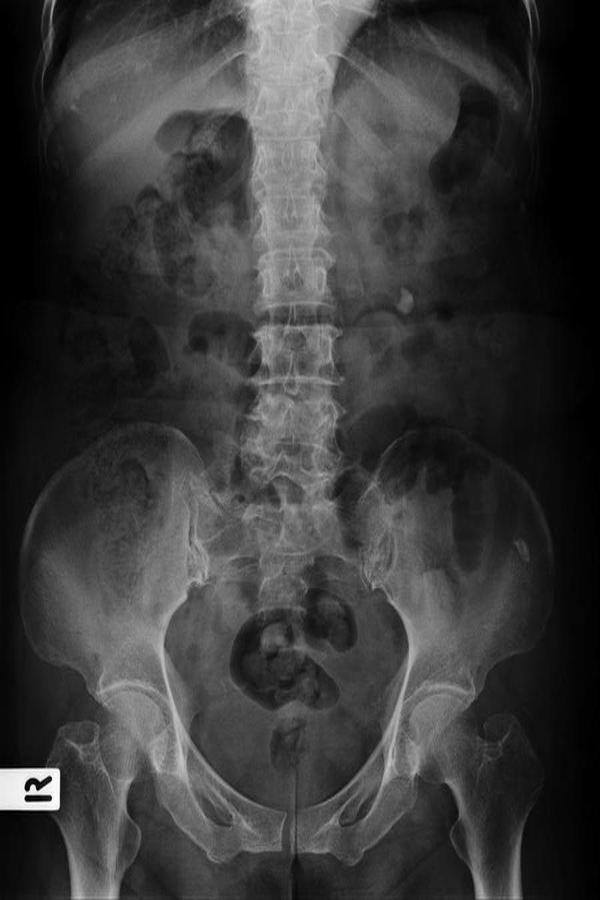lumbar scoliosis: (233, 7, 349, 528)
